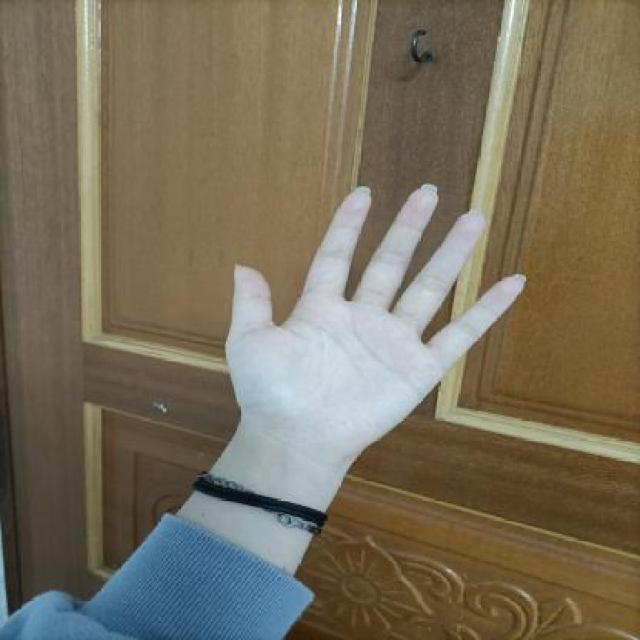bare_hand: (192, 162, 545, 462)
